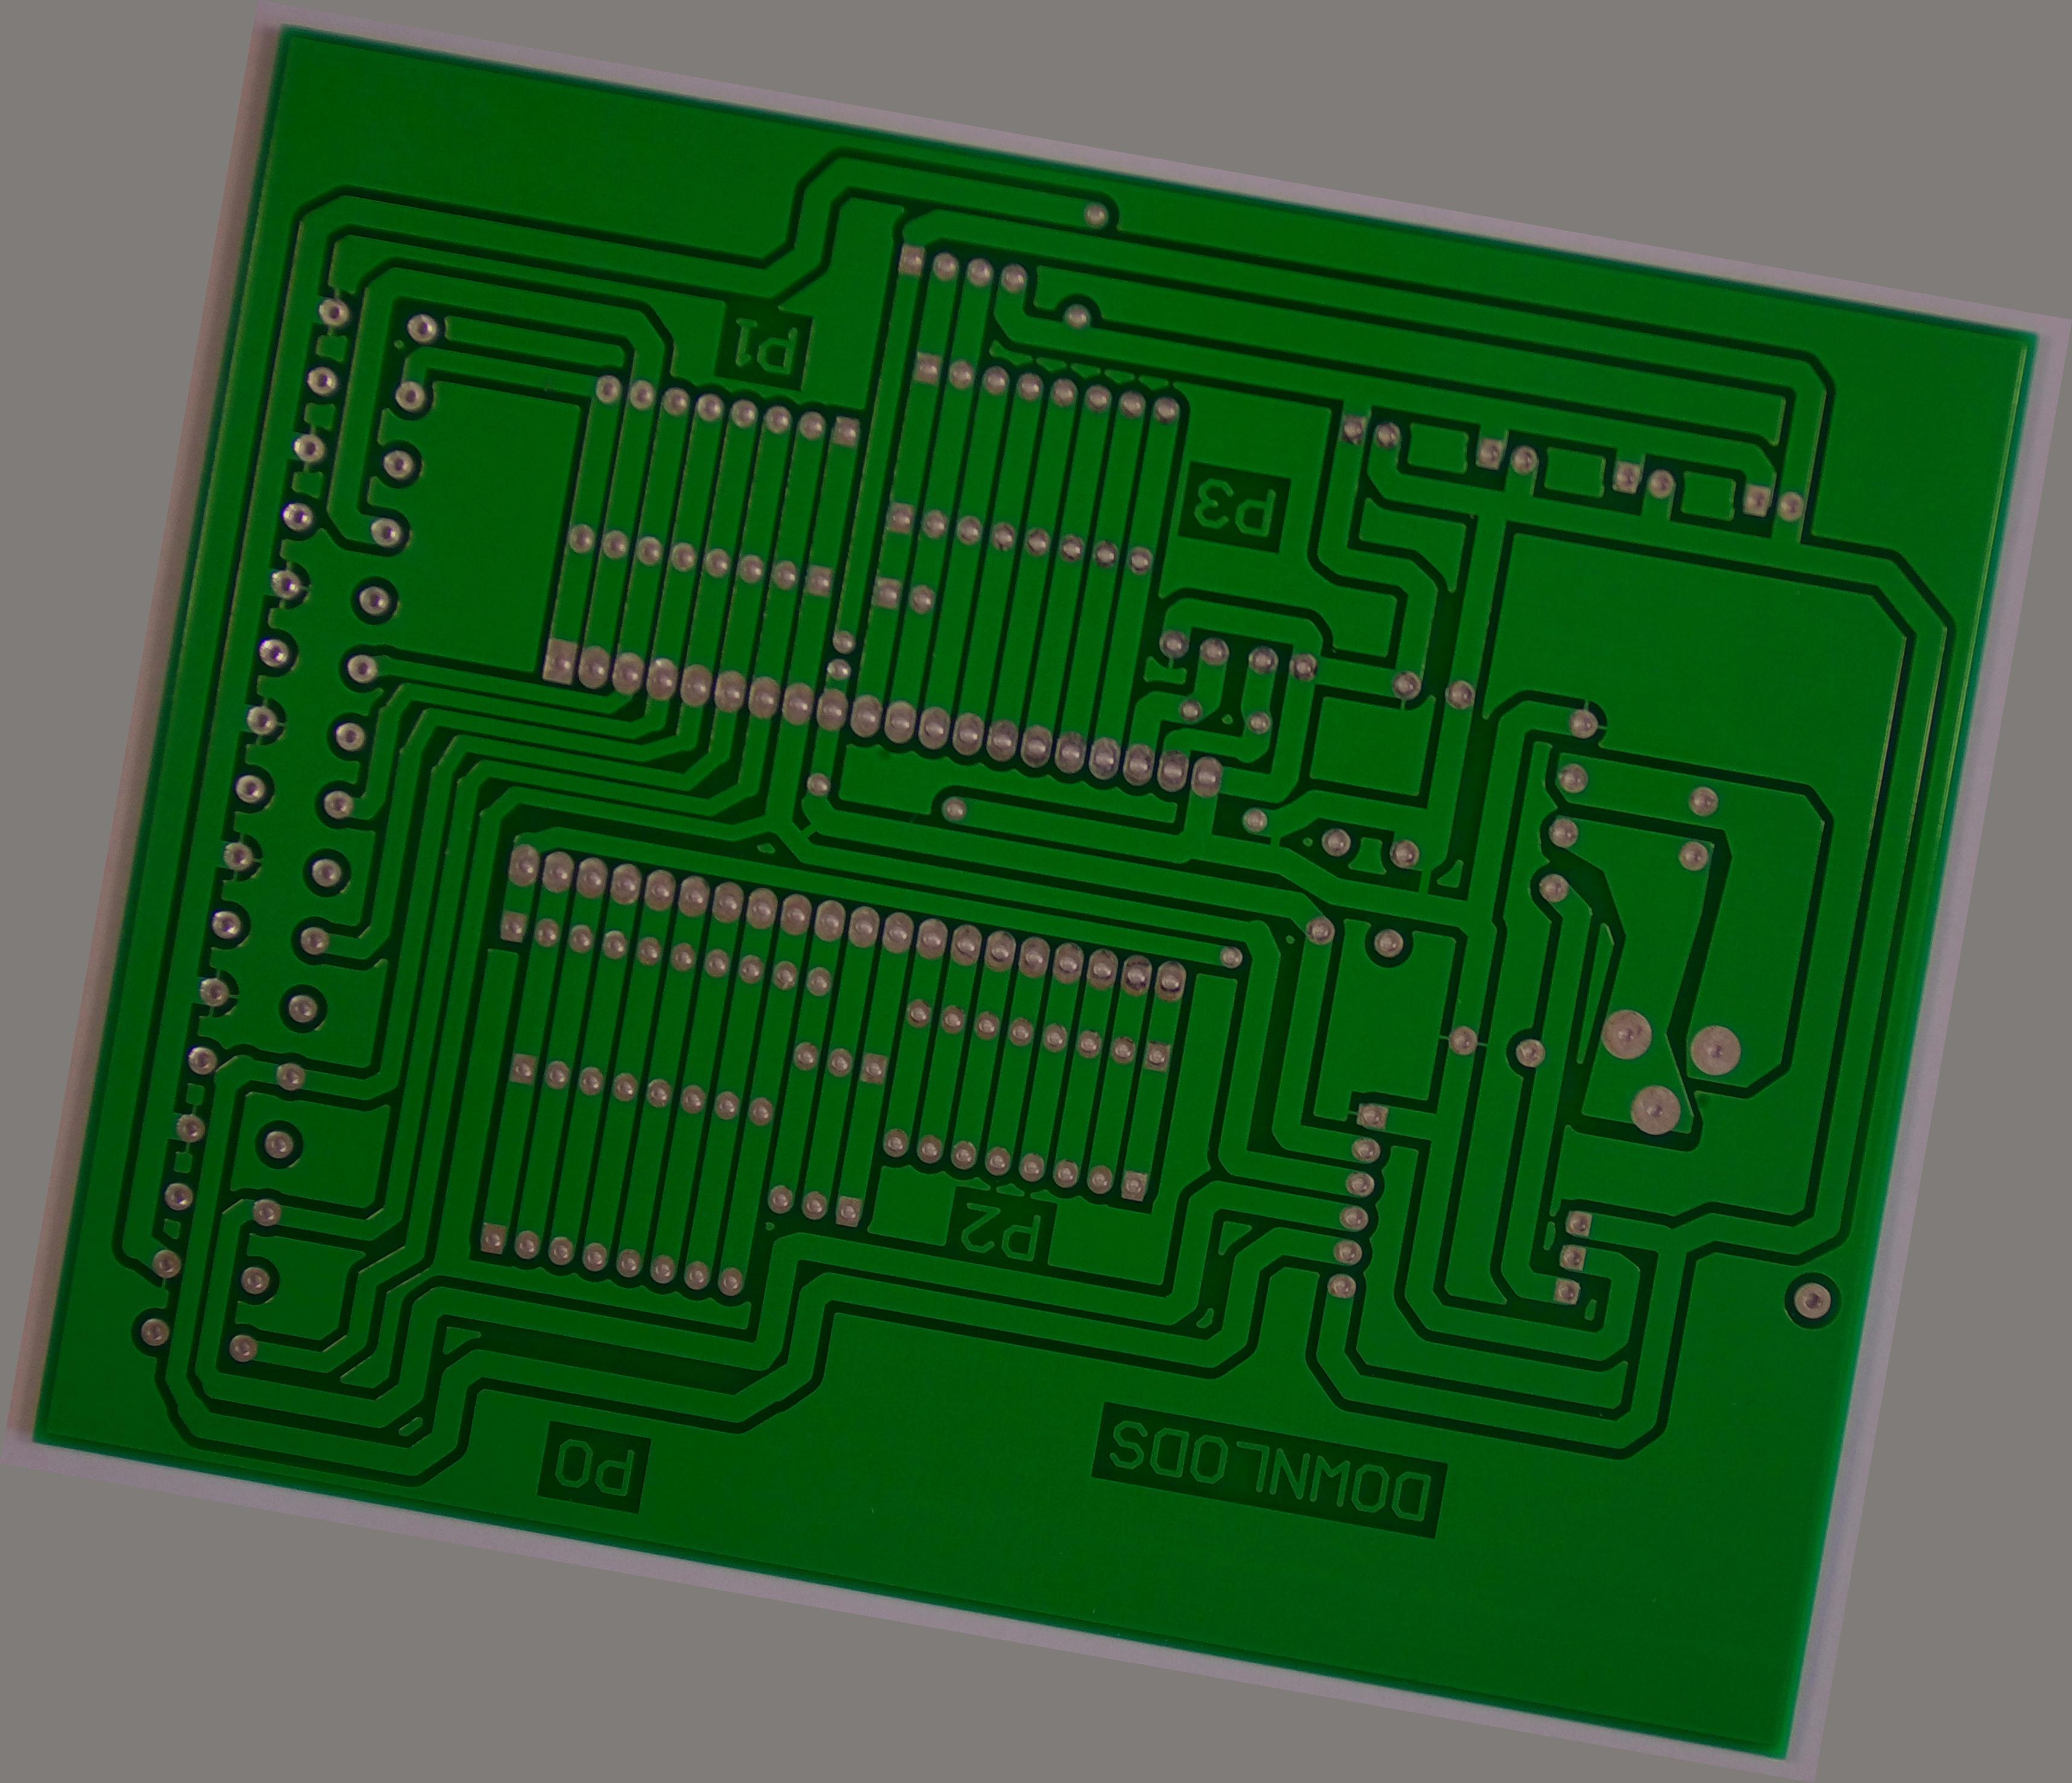short: (775, 790, 845, 861), (1240, 807, 1310, 869)
